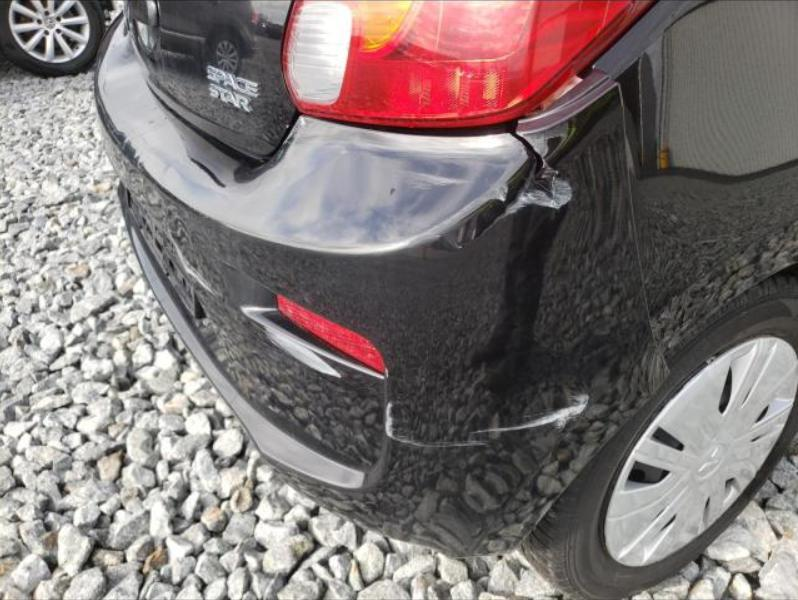Back-bumper: (95, 11, 669, 554)
Back-wheel: (520, 299, 798, 597)
License-plate: (125, 192, 194, 325)
Quarter-panel: (590, 2, 798, 373)
Tail-light: (280, 1, 656, 134)
Trunk: (124, 1, 300, 163)
